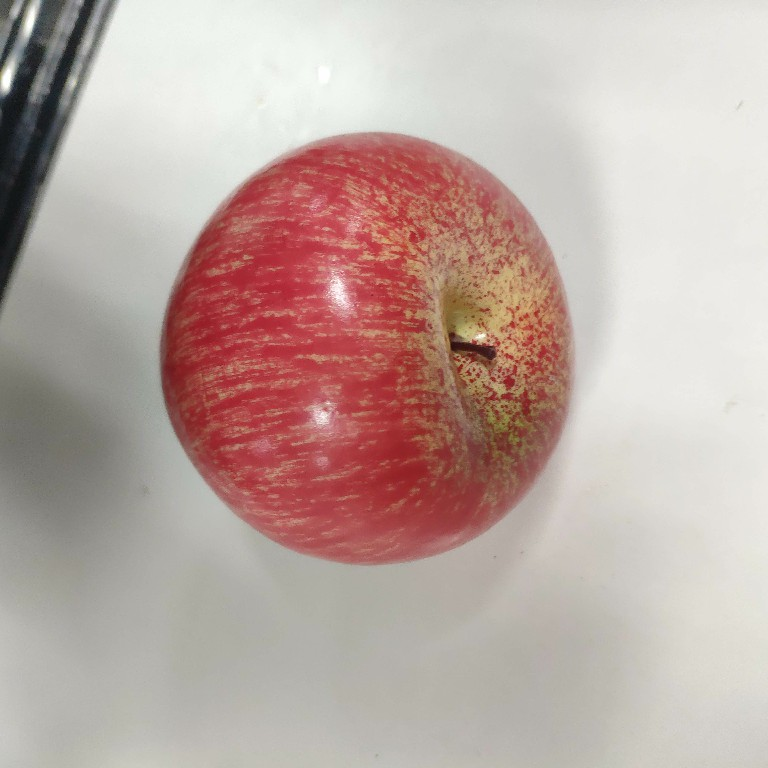fruit_apple: (151, 122, 585, 573)
